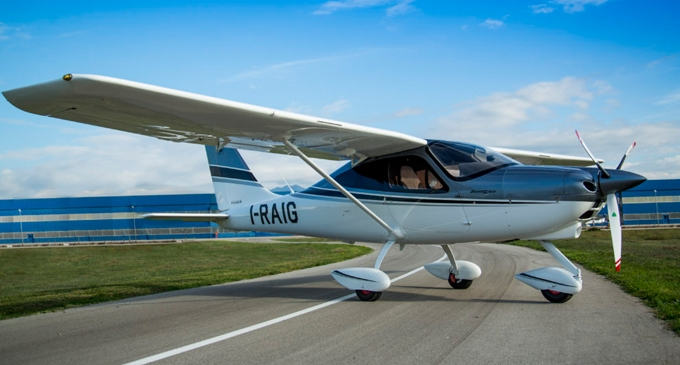aeroplane: (5, 70, 647, 311)
